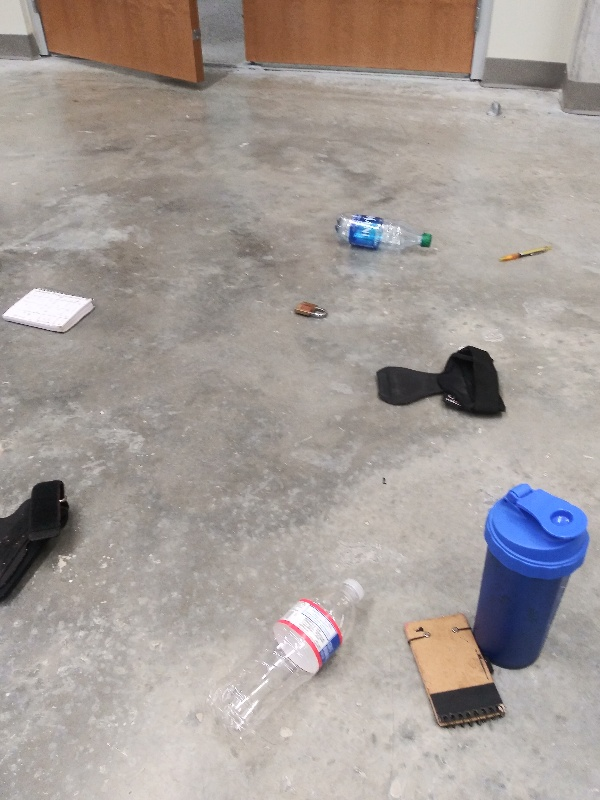bottle: (202, 573, 368, 744), (328, 210, 435, 259)
